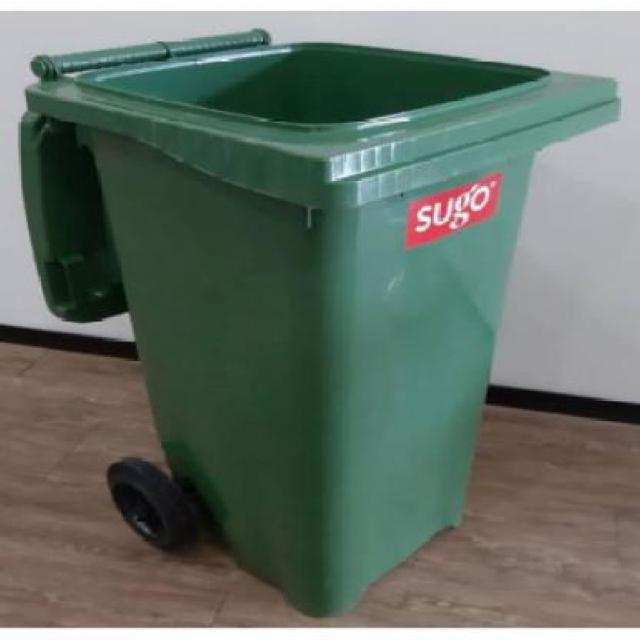garbage container: (7, 28, 633, 639)
